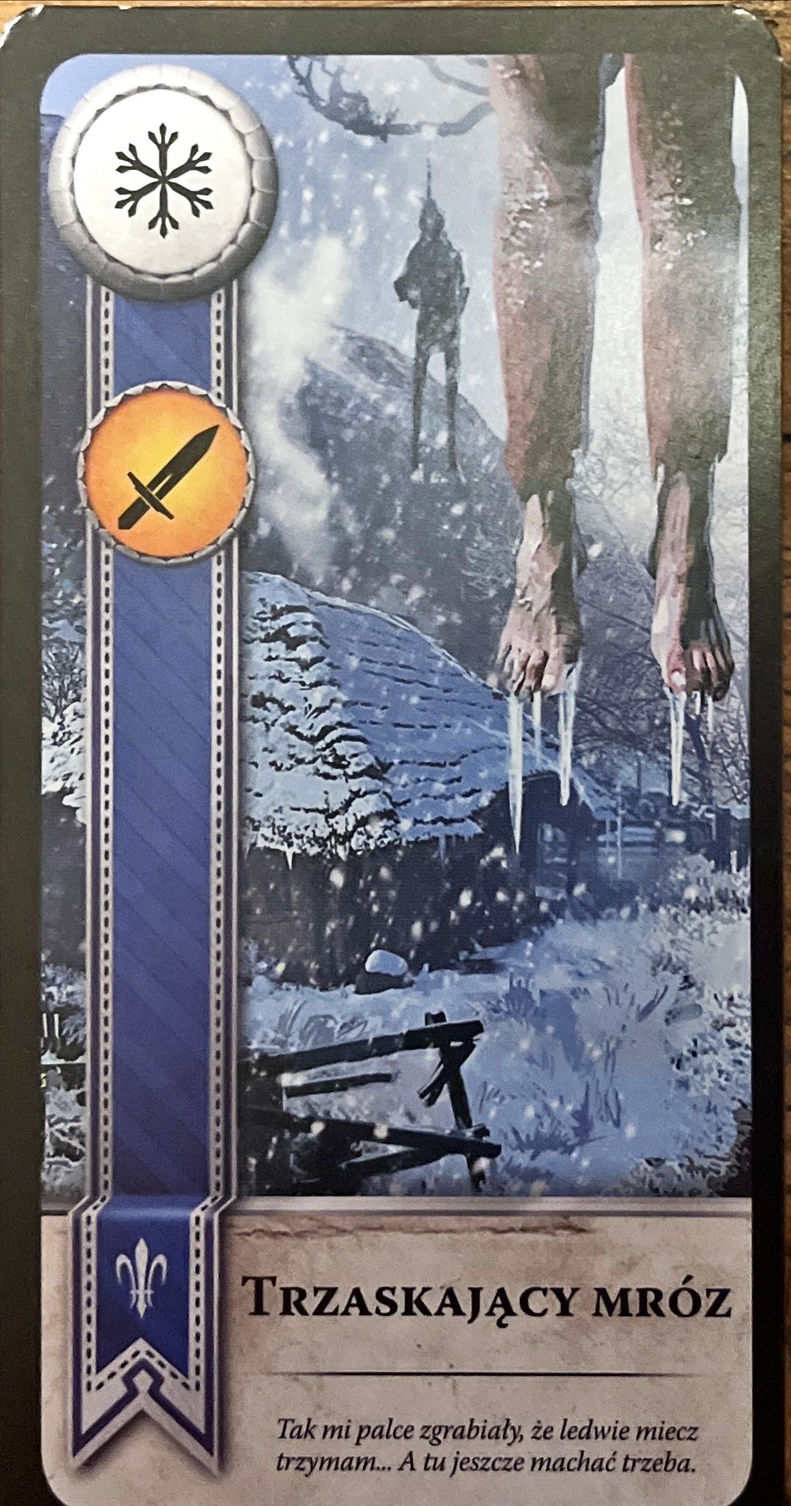miecz: (76, 381, 257, 569)
mroz: (49, 60, 278, 304)
